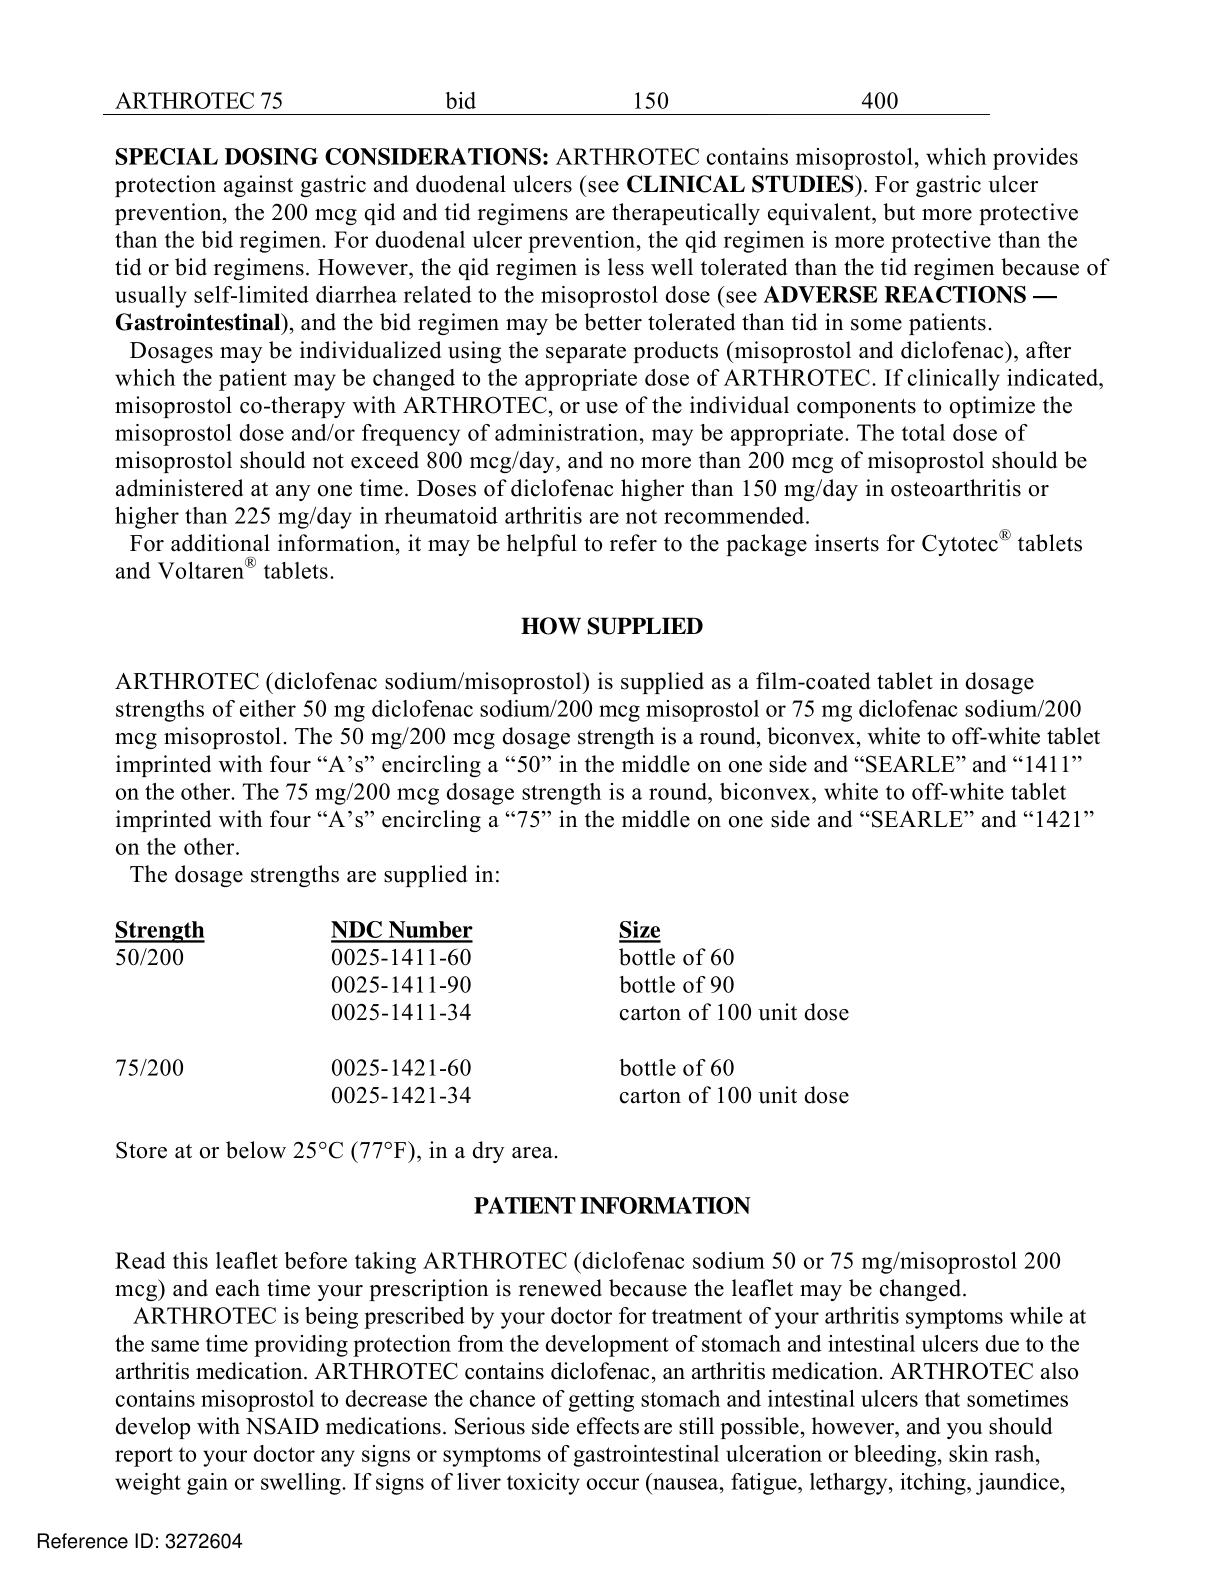nolines: (111, 918, 854, 1104)
